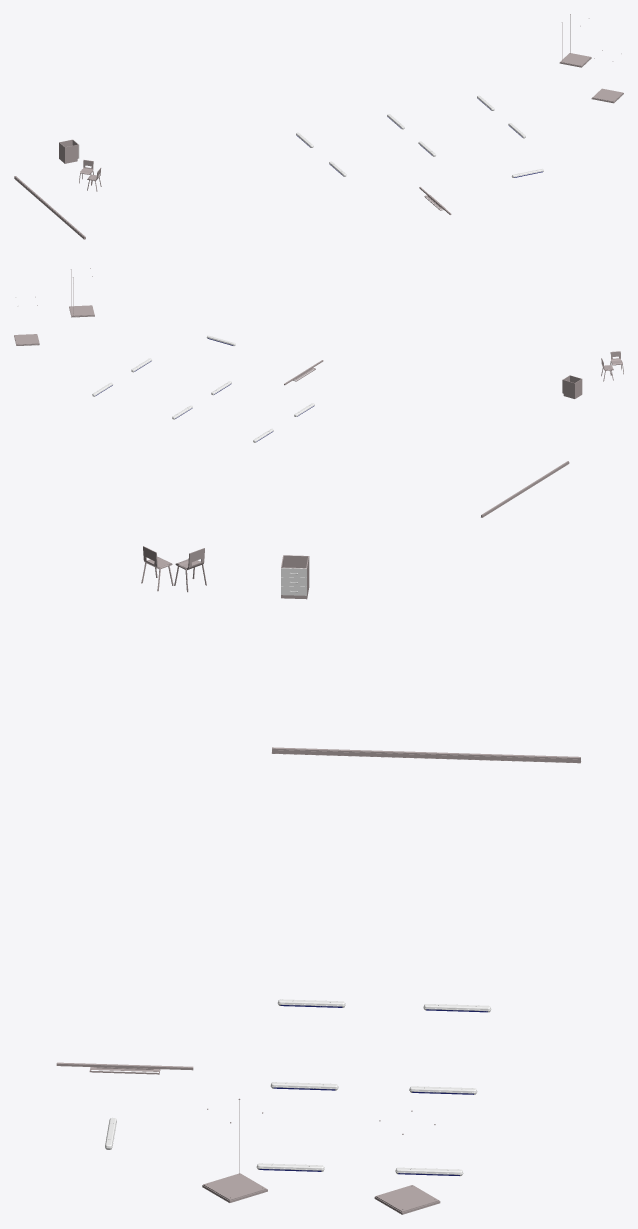
The picture shows the model from 3 angles, top to bottom: view 1: azimuth 30°, elevation 25°; view 2: azimuth 150°, elevation 25°; view 3: azimuth 270°, elevation 25°; orthographic projection. The views are drawn at different scales.
Parts seen in each view (by area): view 1: 0, 1; view 2: 0, 1; view 3: 0, 1.
Boxes of the visible parts, x1,y1,x2,y2 form: 0: (14, 14, 623, 239); 1: (74, 95, 543, 177); 0: (14, 268, 623, 517); 1: (92, 335, 569, 442); 0: (56, 546, 581, 1214); 1: (105, 568, 491, 1176).
Bounding box in the file's own units: 24.24 × 4.45 × 10.04.
